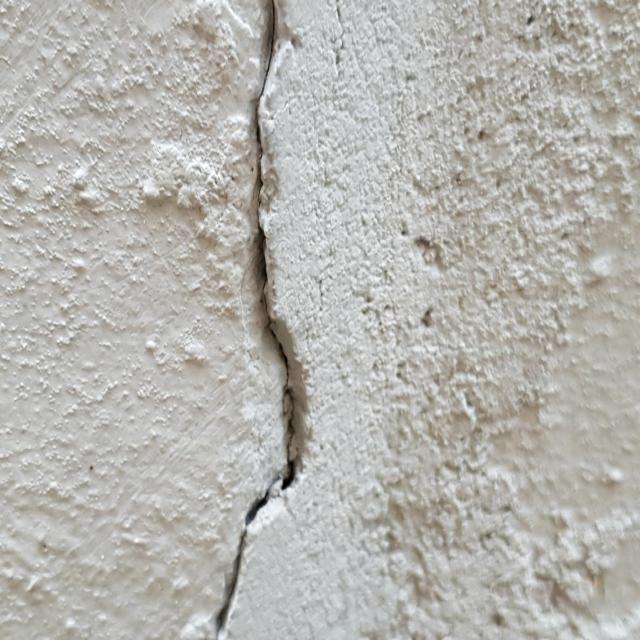SurfaceCrack: (161, 0, 342, 640)
